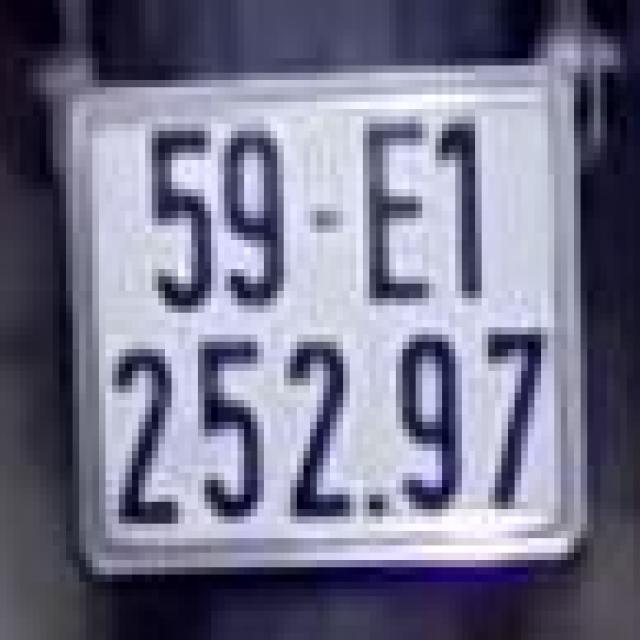1: (436, 109, 502, 313)
2: (277, 316, 363, 534), (99, 338, 191, 535)
5: (138, 105, 231, 324), (188, 327, 274, 538)
7: (465, 320, 558, 524)
9: (389, 324, 468, 527), (214, 116, 294, 313)
E: (353, 102, 439, 313)
